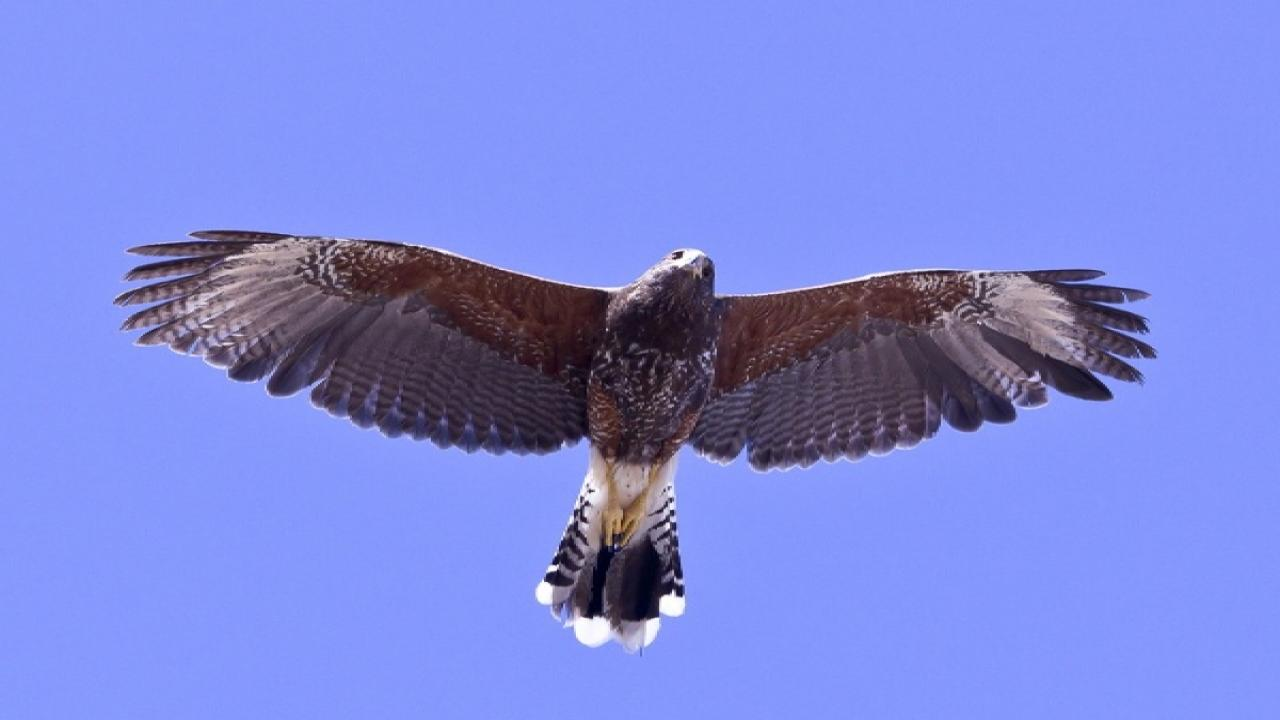Bird: (102, 218, 1168, 659)
